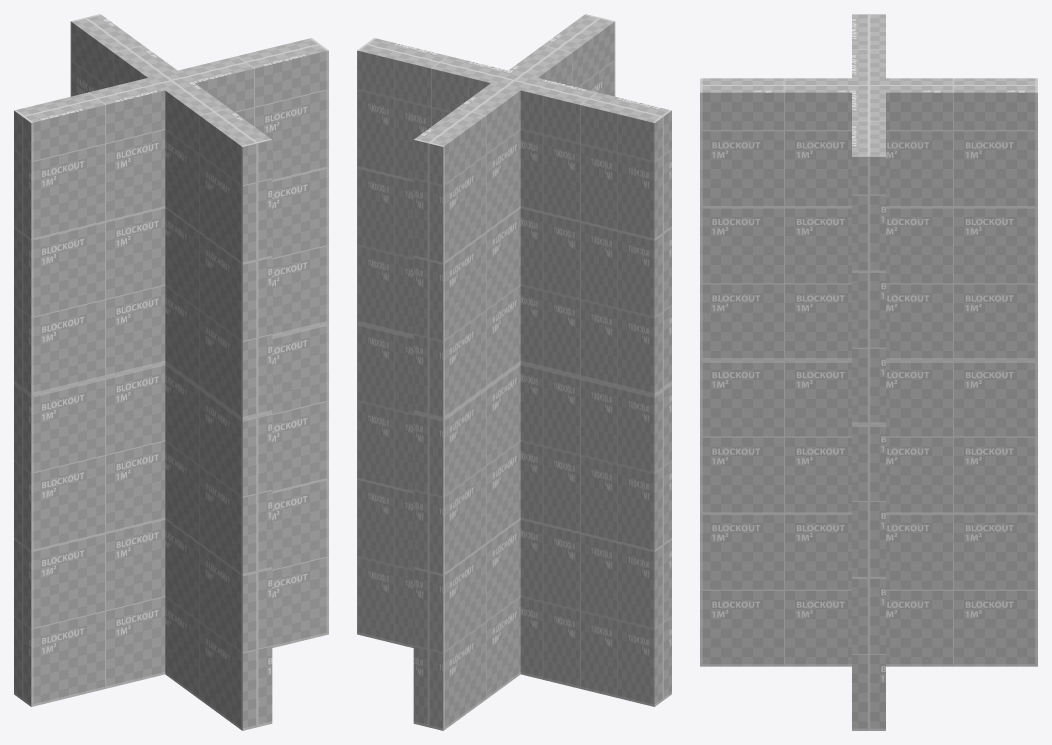
The model's file is BlockoutThinJunctionFourWay.fbx.
The picture shows the model from 3 angles, left to right: view 1: azimuth 30°, elevation 25°; view 2: azimuth 150°, elevation 25°; view 3: azimuth 270°, elevation 25°; orthographic projection.
Visible parts, largest first — view 1: BlockoutThinJunctionFourWay; view 2: BlockoutThinJunctionFourWay; view 3: BlockoutThinJunctionFourWay.
Boxes of the visible parts, x1=… form: BlockoutThinJunctionFourWay: x1=14, y1=14, x2=328, y2=730; BlockoutThinJunctionFourWay: x1=357, y1=14, x2=671, y2=730; BlockoutThinJunctionFourWay: x1=700, y1=14, x2=1037, y2=730.
Size of the model in its own units: 400 by 750 by 400.
